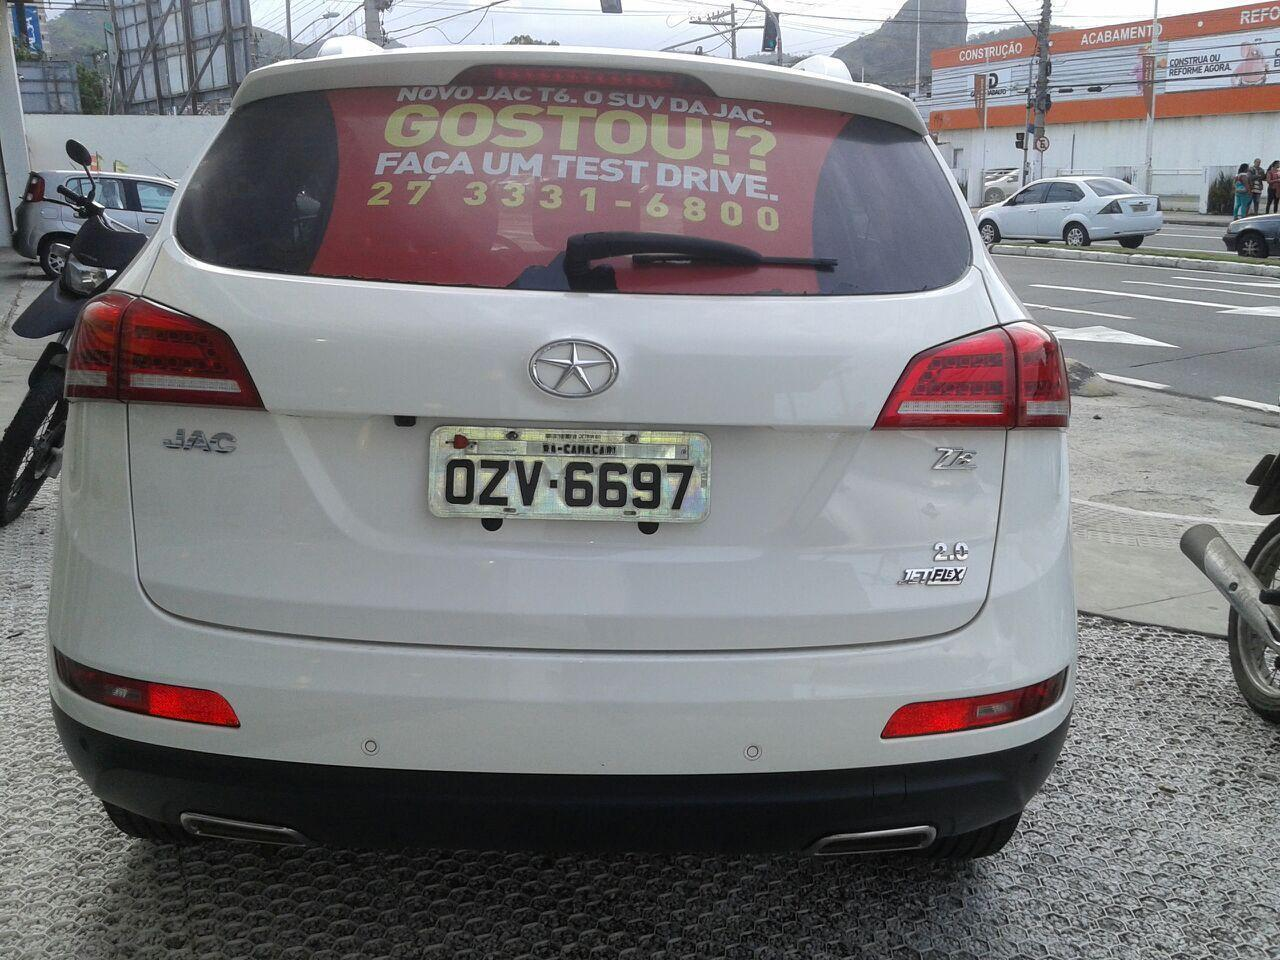placa de veiculo: (410, 392, 762, 559)
